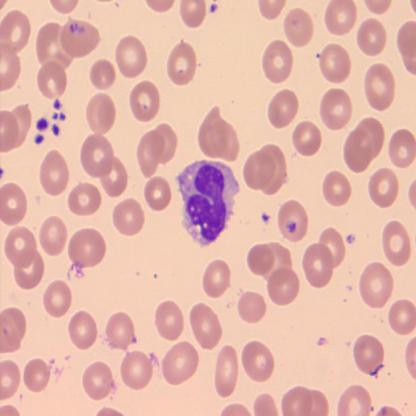Monocyte: (173, 156, 241, 246)
